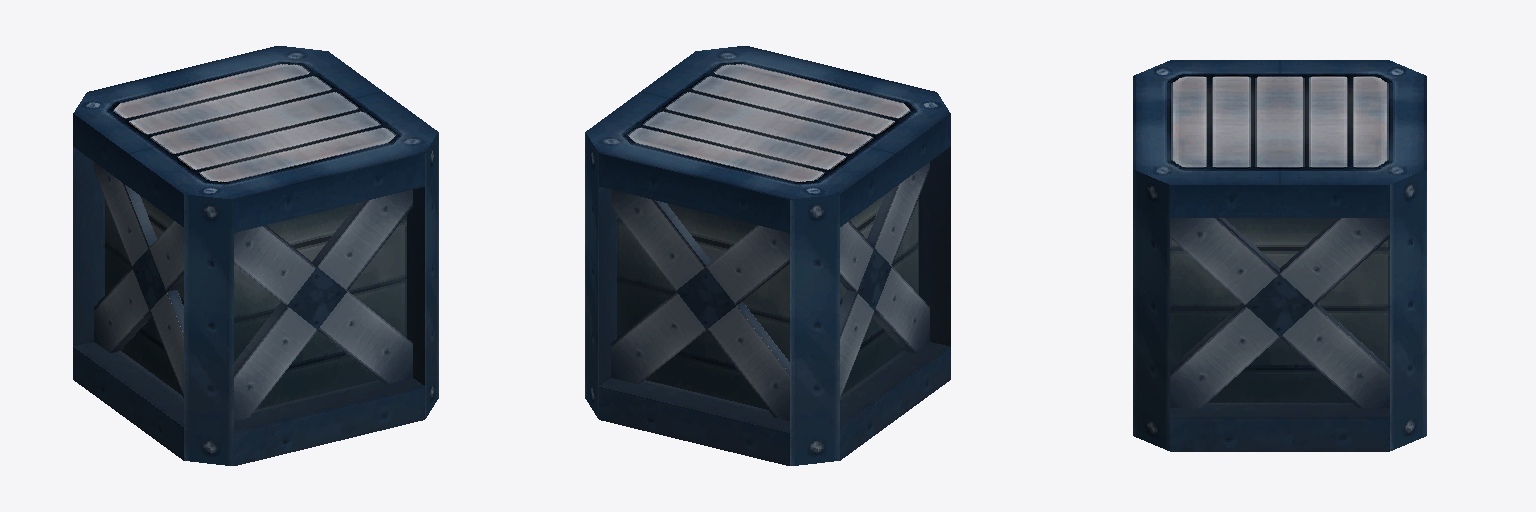
3 views of the same model, side by side, from view 1: azimuth 30°, elevation 25°; view 2: azimuth 150°, elevation 25°; view 3: azimuth 270°, elevation 25° (orthographic).
Parts seen in each view (by area): view 1: Object01; view 2: Object01; view 3: Object01.
Boxes of the visible parts, x1=… form: Object01: x1=73, y1=46, x2=438, y2=465; Object01: x1=585, y1=46, x2=950, y2=465; Object01: x1=1133, y1=60, x2=1426, y2=451.
Bounding box in the file's own units: 24 × 24 × 24.
Materials: 1 (1 with a texture image).